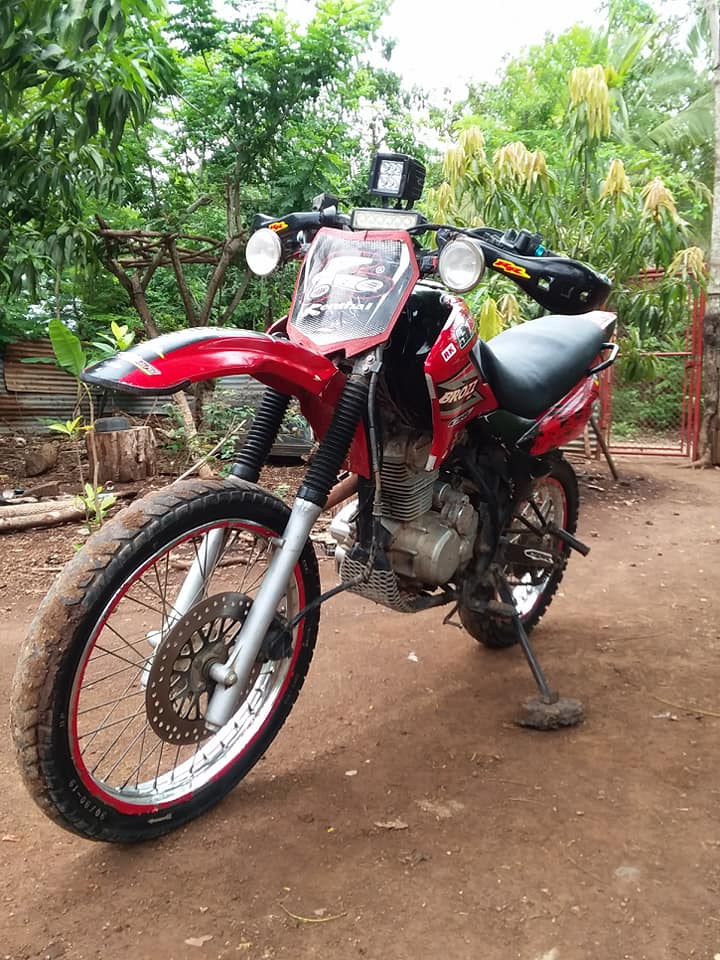moto: (9, 145, 625, 852)
